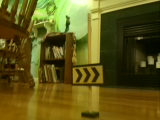right: (72, 65, 105, 85)
